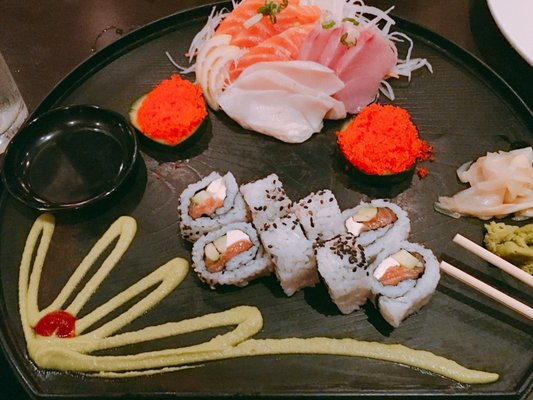curry: (0, 0, 528, 398)
